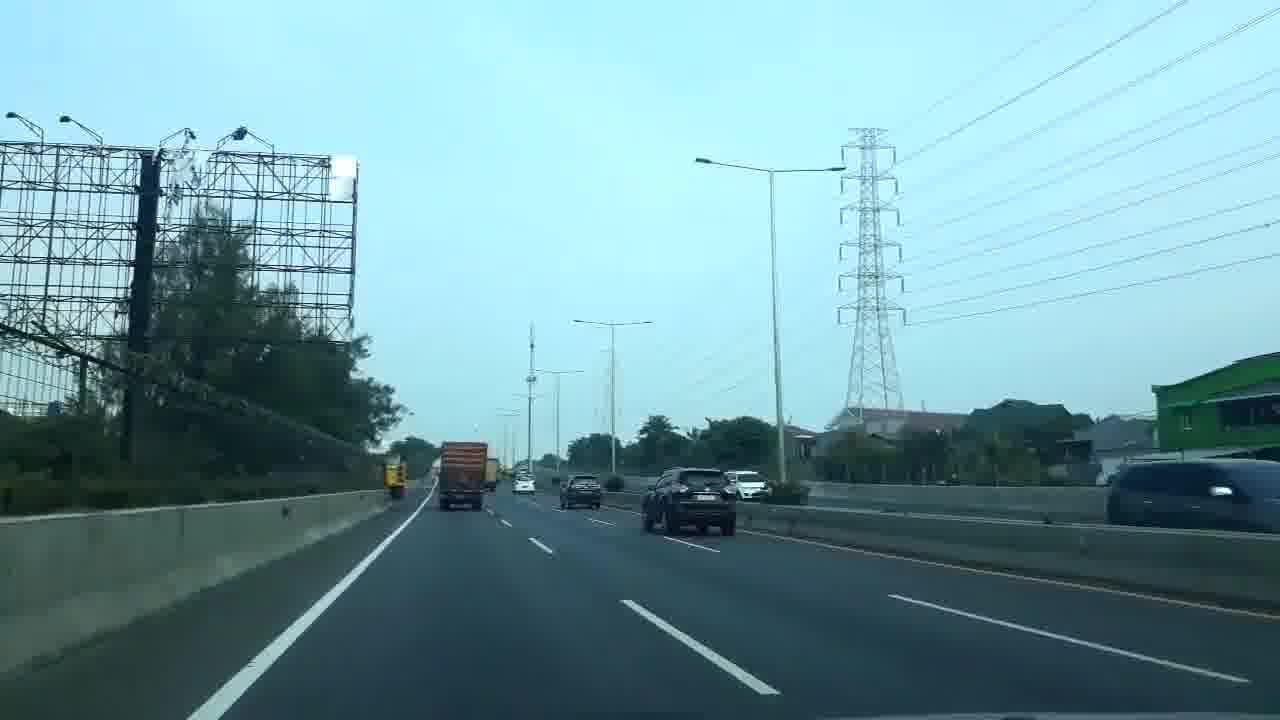plate_positive: (697, 494, 716, 501)
